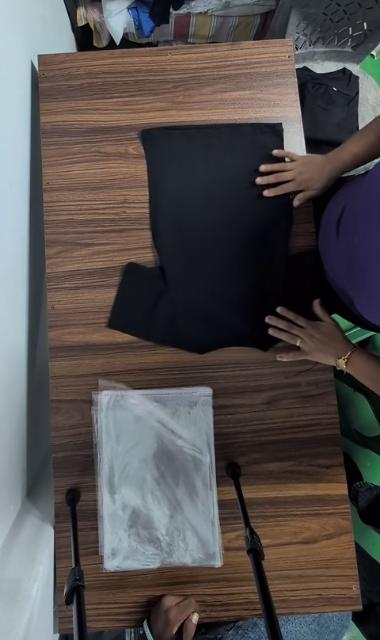new-garment: (109, 124, 291, 353)
